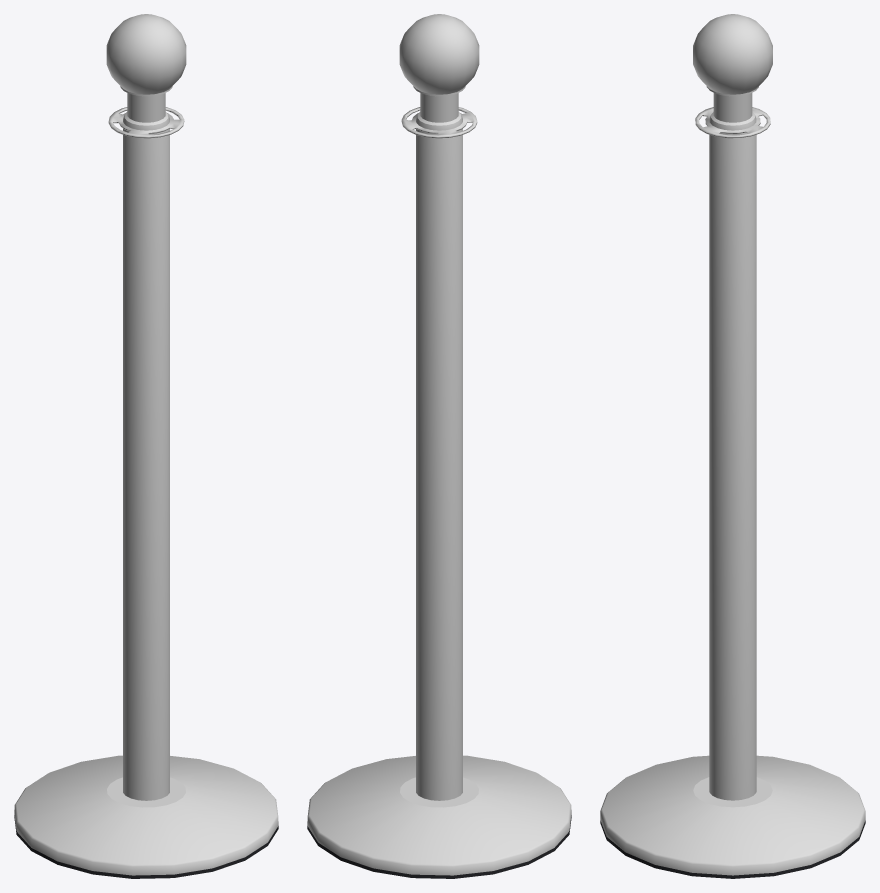
File: BarrierRope01_4.FBX
The picture shows the model from 3 angles, left to right: view 1: azimuth 30°, elevation 25°; view 2: azimuth 150°, elevation 25°; view 3: azimuth 270°, elevation 25°; orthographic projection.
Visible parts, largest first — view 1: BarrierRope01_4; view 2: BarrierRope01_4; view 3: BarrierRope01_4.
Boxes of the visible parts, x1=… form: BarrierRope01_4: x1=14, y1=14, x2=278, y2=878; BarrierRope01_4: x1=307, y1=14, x2=571, y2=878; BarrierRope01_4: x1=600, y1=14, x2=865, y2=878.
Bounding box in the file's own units: 31.06 × 104 × 31.06.
